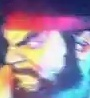ryu: (0, 9, 67, 94)
